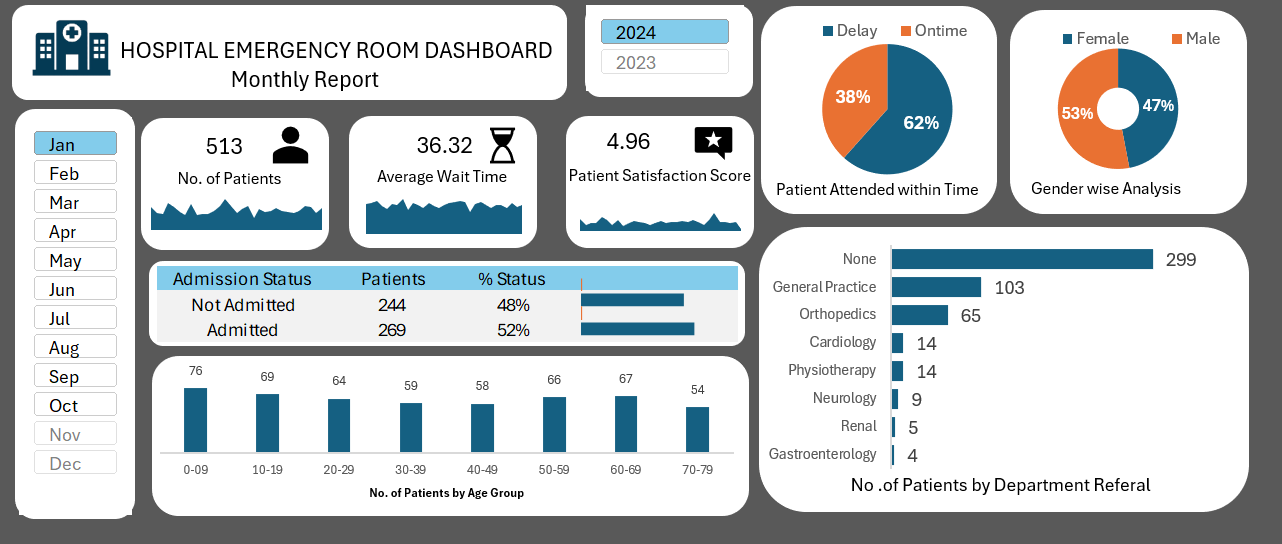

The page's visual inventory and layout, read from the dashboard file:
{"tool":"powerbi","page":{"name":"Monthly View","canvas":[2300,1400],"ordinal":0},"visuals":[{"type":"shape","box":[9.1,0,310,1400.5],"z":0},{"type":"shape","box":[319.9,0,1980.1,138.8],"z":1000},{"type":"textbox","box":[319.9,0,1270.7,90.6],"z":2000},{"type":"shape","box":[365.2,181.1,455,262.6],"z":3000},{"type":"textbox","box":[320,80,317.1,60],"z":4000},{"type":"card","fields":{"Values":["Hospital ER_Data.NO OF PATIENTS"]},"box":[288.6,151.4,508.6,262.9],"z":5000},{"type":"slicer","fields":{"Values":["Date Table.Year"]},"box":[1814,12.1,169,114.7],"z":6000},{"type":"slicer","fields":{"Values":["Date Table.Month"]},"box":[2016.3,12.1,178.1,114.7],"z":7000},{"type":"textbox","box":[404.5,205.2,383.3,78.5],"z":8000},{"type":"areaChart","fields":{"Category":["Date Table.Date.Variation.Date Hierarchy.Day"],"Y":["Hospital ER_Data.NO OF PATIENTS"]},"box":[362,313.4,435.1,133.9],"z":9000},{"type":"card","fields":{"Values":["Min(Date Table.Month & Year)"]},"box":[600,80,294.3,48.6],"z":10000},{"type":"shape","box":[836.2,171.1,455,262.6],"z":11000},{"type":"textbox","box":[888.7,195.2,383.3,78.5],"z":12000},{"type":"areaChart","fields":{"Category":["Date Table.Date.Variation.Date Hierarchy.Day"],"Y":["Avg(Hospital ER_Data.Patient Waittime)"]},"box":[846.3,303.4,435.1,133.9],"z":13000},{"type":"shape","box":[1307.1,179.7,455,262.6],"z":14000},{"type":"textbox","box":[1348.7,203.8,383.3,78.5],"z":15000},{"type":"areaChart","fields":{"Category":["Date Table.Date.Variation.Date Hierarchy.Day"],"Y":["Avg(Hospital ER_Data.Patient Satisfaction Score)"]},"box":[1306.3,311.9,435.1,133.9],"z":16000},{"type":"shape","box":[1778.1,179.7,455,262.6],"z":17000},{"type":"textbox","box":[1817.3,203.8,383.3,78.5],"z":18000},{"type":"areaChart","fields":{"Category":["Date Table.Date.Variation.Date Hierarchy.Day"],"Y":["Hospital ER_Data.No of PATIENTS Referred"]},"box":[1774.9,311.9,435.1,133.9],"z":19000},{"type":"card","fields":{"Values":["Hospital ER_Data.Avg WaitTime"]},"box":[771.4,151.4,508.6,260],"z":20000},{"type":"card","fields":{"Values":["Hospital ER_Data.Satisfaction Score"]},"box":[1268.6,151.4,508.6,262.9],"z":21000},{"type":"card","fields":{"Values":["Hospital ER_Data.No of PATIENTS Referred"]},"box":[1762.9,182.9,508.6,262.9],"z":22000},{"type":"shape","box":[360,448.6,631.4,177.1],"z":23000},{"type":"pivotTable","title":"Patient Admission Status","fields":{"Rows":["Hospital ER_Data.Admission Status"],"Values":["Hospital ER_Data.NO OF PATIENTS1","Hospital ER_Data.NO OF PATIENTS"]},"box":[380,448.6,657.1,217.1],"z":24000},{"type":"barChart","title":"Patient Admission Status","fields":{"Category":["Hospital ER_Data.Admission Status"],"Y":["Hospital ER_Data.NO OF PATIENTS","Divide(Hospital ER_Data.NO OF PATIENTS, ScopedEval(Hospital ER_Data.NO OF PATIENTS, []))"]},"box":[771.4,465.7,260,160],"z":25000},{"type":"shape","box":[362.9,648.6,628.6,368.6],"z":26000},{"type":"clusteredColumnChart","fields":{"Category":["Hospital ER_Data.Age Group"],"Y":["Hospital ER_Data.NO OF PATIENTS"]},"box":[382.9,665.7,591.4,320],"z":27000},{"type":"shape","box":[365.7,1031.4,628.6,368.6],"z":28000},{"type":"clusteredBarChart","fields":{"Category":["Hospital ER_Data.Department Referral"],"Y":["Hospital ER_Data.NO OF PATIENTS"]},"box":[382.9,1068.6,602.9,331.4],"z":29000},{"type":"shape","box":[1037.1,1031.4,600,368.6],"z":30000},{"type":"shape","box":[1037.1,745.7,600,271.4],"z":31000},{"type":"shape","box":[1037.1,448.6,600,271.4],"z":32000},{"type":"donutChart","title":"% of Patients seen within 30 Minutes","fields":{"Category":["Hospital ER_Data.WaitTime Status"],"Y":["Hospital ER_Data.NO OF PATIENTS"]},"box":[1051.4,465.7,585.7,234.3],"z":33000},{"type":"donutChart","title":"% of Patients by Gender","fields":{"Category":["Hospital ER_Data.Patient Gender","Hospital ER_Data.WaitTime Status"],"Y":["Hospital ER_Data.NO OF PATIENTS"]},"box":[1042.9,765.7,585.7,234.3],"z":34000},{"type":"clusteredBarChart","fields":{"Y":["Hospital ER_Data.NO OF PATIENTS"],"Category":["Hospital ER_Data.Patient Race"]},"box":[1051.4,1051.4,585.7,331.4],"z":35000},{"type":"shape","box":[1674.3,448.6,557.1,934.3],"z":36000},{"type":"pivotTable","fields":{"Columns":["Date Table.Day Name"],"Rows":["Hospital ER_Data.WaitTime Interval"],"Values":["Hospital ER_Data.NO OF PATIENTS"]},"box":[1694.3,814.3,537.1,585.7],"z":37000},{"type":"columnChart","title":"NO OF PATIENTS by Day & Hour","fields":{"Category":["Date Table.Day Name"],"Y":["Hospital ER_Data.NO OF PATIENTS"]},"box":[1794.3,465.7,422.9,331.4],"z":38000},{"type":"image","box":[11.4,2.9,300,300],"z":38001},{"type":"pageNavigator","box":[11.4,437.1,300,445.7],"z":38002}]}

Visuals, with their boxes on the page's 2300x1400 design canvas (x1, y1, x2, y2). These are canvas units, not pixel positions in the 1282x544 screenshot, which may show the page scaled, cropped or inside an application window:
shape: <region>9, 0, 319, 1400</region>
shape: <region>320, 0, 2300, 139</region>
textbox: <region>320, 0, 1591, 91</region>
shape: <region>365, 181, 820, 444</region>
textbox: <region>320, 80, 637, 140</region>
card - Hospital ER_Data.NO OF PATIENTS: <region>289, 151, 797, 414</region>
slicer - Date Table.Year: <region>1814, 12, 1983, 127</region>
slicer - Date Table.Month: <region>2016, 12, 2194, 127</region>
textbox: <region>404, 205, 788, 284</region>
areaChart - Date Table.Date.Variation.Date Hierarchy.Day x Hospital ER_Data.NO OF PATIENTS: <region>362, 313, 797, 447</region>
card - Min(Date Table.Month & Year): <region>600, 80, 894, 129</region>
shape: <region>836, 171, 1291, 434</region>
textbox: <region>889, 195, 1272, 274</region>
areaChart - Date Table.Date.Variation.Date Hierarchy.Day x Avg(Hospital ER_Data.Patient Waittime): <region>846, 303, 1281, 437</region>
shape: <region>1307, 180, 1762, 442</region>
textbox: <region>1349, 204, 1732, 282</region>
areaChart - Date Table.Date.Variation.Date Hierarchy.Day x Avg(Hospital ER_Data.Patient Satisfaction Score): <region>1306, 312, 1741, 446</region>
shape: <region>1778, 180, 2233, 442</region>
textbox: <region>1817, 204, 2201, 282</region>
areaChart - Date Table.Date.Variation.Date Hierarchy.Day x Hospital ER_Data.No of PATIENTS Referred: <region>1775, 312, 2210, 446</region>
card - Hospital ER_Data.Avg WaitTime: <region>771, 151, 1280, 411</region>
card - Hospital ER_Data.Satisfaction Score: <region>1269, 151, 1777, 414</region>
card - Hospital ER_Data.No of PATIENTS Referred: <region>1763, 183, 2272, 446</region>
shape: <region>360, 449, 991, 626</region>
"Patient Admission Status" pivotTable: <region>380, 449, 1037, 666</region>
"Patient Admission Status" barChart: <region>771, 466, 1031, 626</region>
shape: <region>363, 649, 992, 1017</region>
clusteredColumnChart - Hospital ER_Data.Age Group x Hospital ER_Data.NO OF PATIENTS: <region>383, 666, 974, 986</region>
shape: <region>366, 1031, 994, 1400</region>
clusteredBarChart - Hospital ER_Data.Department Referral x Hospital ER_Data.NO OF PATIENTS: <region>383, 1069, 986, 1400</region>
shape: <region>1037, 1031, 1637, 1400</region>
shape: <region>1037, 746, 1637, 1017</region>
shape: <region>1037, 449, 1637, 720</region>
"% of Patients seen within 30 Minutes" donutChart: <region>1051, 466, 1637, 700</region>
"% of Patients by Gender" donutChart: <region>1043, 766, 1629, 1000</region>
clusteredBarChart - Hospital ER_Data.NO OF PATIENTS x Hospital ER_Data.Patient Race: <region>1051, 1051, 1637, 1383</region>
shape: <region>1674, 449, 2231, 1383</region>
pivotTable - Date Table.Day Name x Hospital ER_Data.WaitTime Interval: <region>1694, 814, 2231, 1400</region>
"NO OF PATIENTS by Day & Hour" columnChart: <region>1794, 466, 2217, 797</region>
image: <region>11, 3, 311, 303</region>
pageNavigator: <region>11, 437, 311, 883</region>
